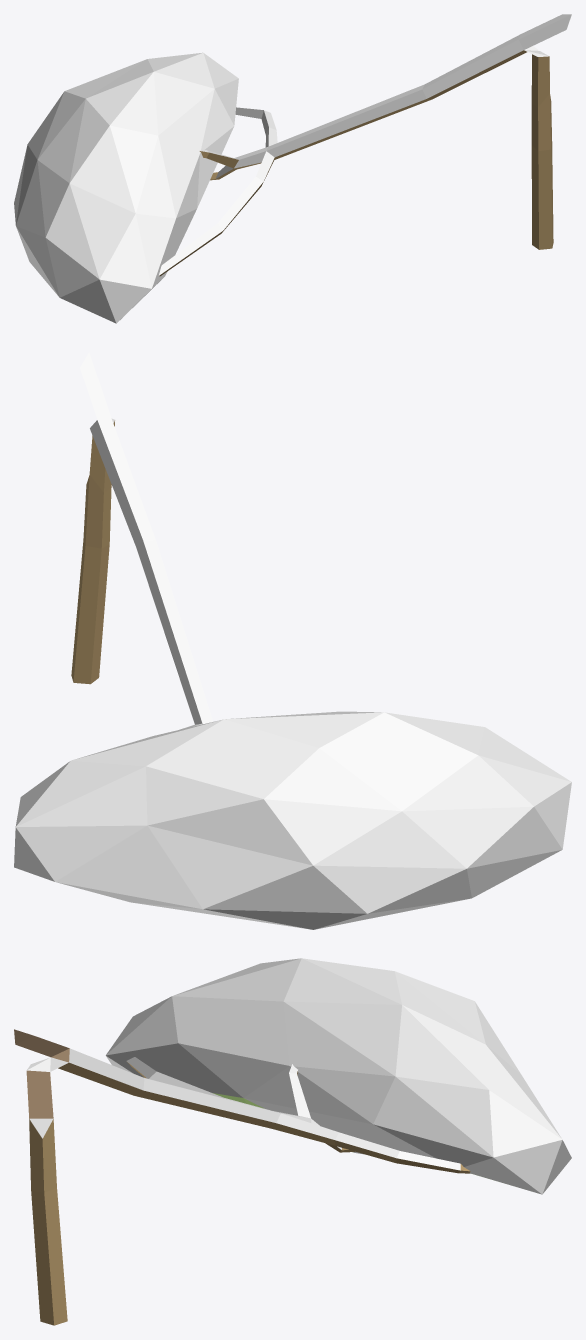
File: Acacia_Tree_crk_m_Snow_01_LOD.fbx
3 views of the same model, one above another, from view 1: azimuth 30°, elevation 25°; view 2: azimuth 150°, elevation 25°; view 3: azimuth 270°, elevation 25° (orthographic). The views are drawn at different scales.
Visible parts, largest first — view 1: Acacia_Tree_crk_m_Snow_01_LOD0; view 2: Acacia_Tree_crk_m_Snow_01_LOD0; view 3: Acacia_Tree_crk_m_Snow_01_LOD0.
Part boxes in pixels (x1,y1,x2,y2): Acacia_Tree_crk_m_Snow_01_LOD0: (14,14,571,323); Acacia_Tree_crk_m_Snow_01_LOD0: (14,352,571,929); Acacia_Tree_crk_m_Snow_01_LOD0: (14,958,571,1325).
Size of what is drawn, in the model's own units: 703 by 369 by 621.
